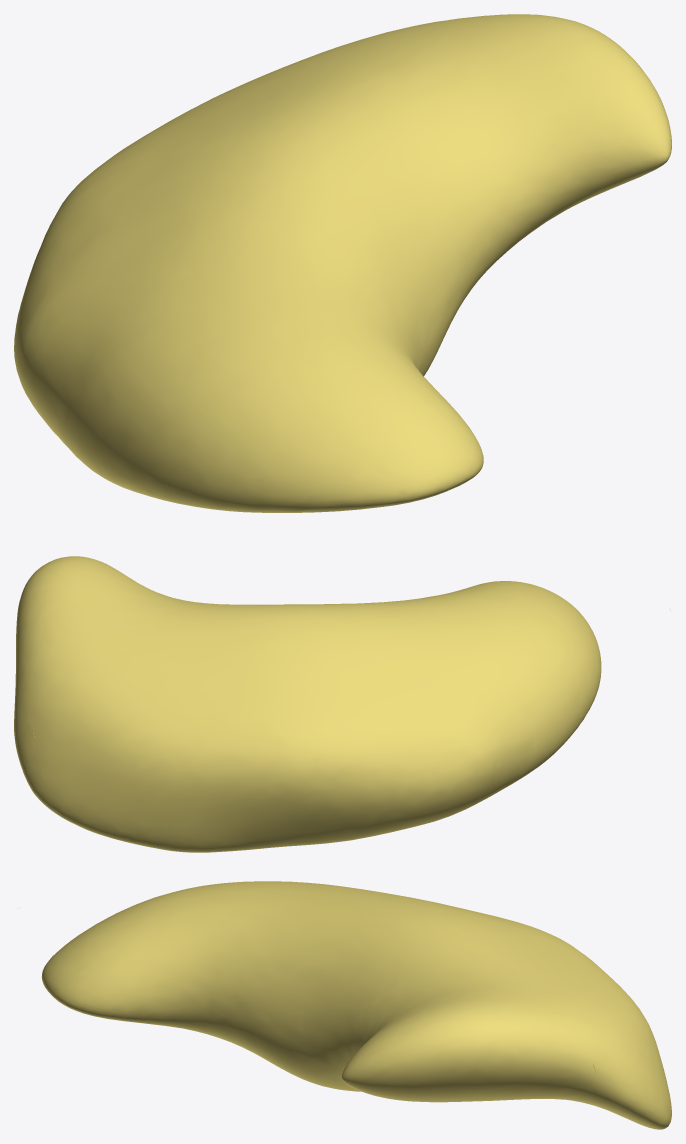
Rendered from superior-semilunar-lobule-r.glb.
3 views of the same model, one above another, from view 1: azimuth 30°, elevation 25°; view 2: azimuth 150°, elevation 25°; view 3: azimuth 270°, elevation 25° (orthographic). The views are drawn at different scales.
Visible parts, largest first — view 1: Superior semilunar lobule.r; view 2: Superior semilunar lobule.r; view 3: Superior semilunar lobule.r.
Part boxes in pixels (left/top/right/bottom): Superior semilunar lobule.r: left=14, top=14, right=671, bottom=512; Superior semilunar lobule.r: left=14, top=556, right=670, bottom=852; Superior semilunar lobule.r: left=15, top=881, right=671, bottom=1129.
Size of the model in its own units: 0.049 by 0.0193 by 0.0585.
